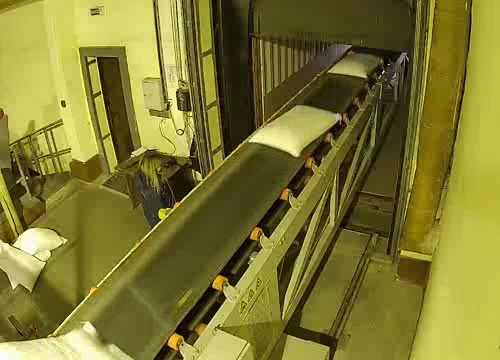bag: (243, 95, 350, 164), (0, 313, 152, 360), (322, 45, 392, 84)
